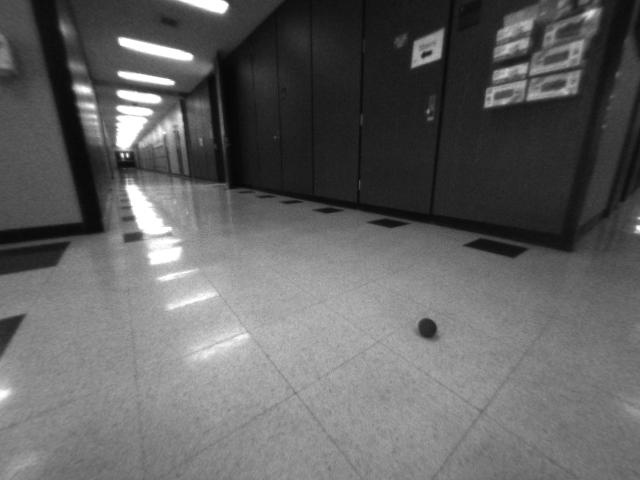dogtoy: (407, 310, 446, 346)
